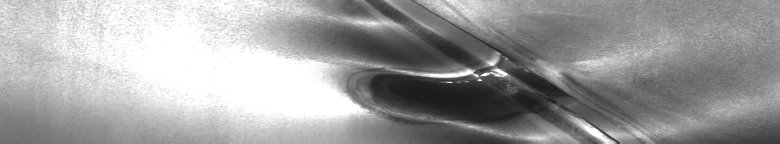ke: (343, 4, 612, 136)
